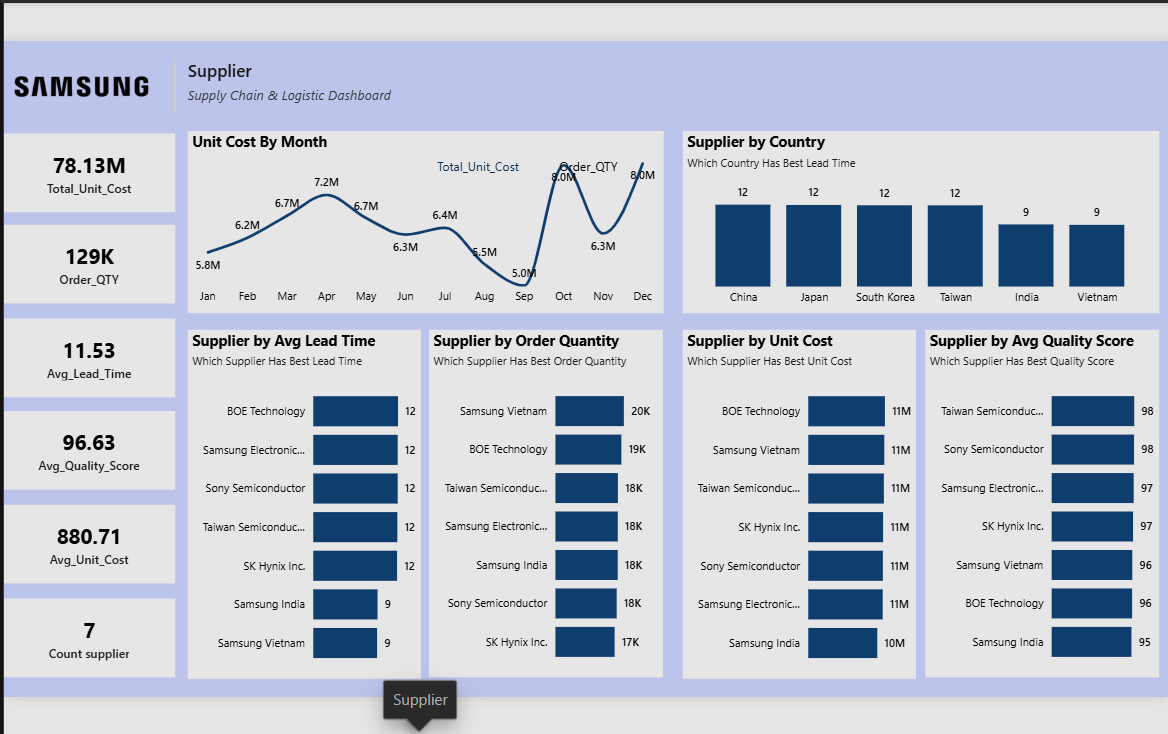

The page's visual inventory and layout, read from the dashboard file:
{"tool":"powerbi","page":{"name":"Supplier","canvas":[1280,720],"ordinal":2},"visuals":[{"type":"shape","title":"Supplier","box":[201.7,18.8,278.6,60.4],"z":0},{"type":"lineChart","title":"Unit Cost By Month","fields":{"Y":["fact_procurement.Total_Unit_Cost"],"Category":["dim_date.Month_Short"]},"box":[201.7,98.8,522,200],"z":0,"group":"g1"},{"type":"shape","box":[172.9,18.8,28.8,60.4],"z":1000},{"type":"advancedSlicerVisual","fields":{"Values":["Cost_Qty_Supplier.Cost_Qty_Supplier"]},"box":[457.3,110.3,249.9,53.9],"z":1000,"group":"g1"},{"type":"image","box":[0,18.8,163.3,60.4],"z":2000},{"type":"cardVisual","fields":{"Data":["Measures Table.Order_QTY"]},"box":[0,201.7,188,86.4],"z":3000},{"type":"cardVisual","fields":{"Data":["Measures Table.Avg_Lead_Time"]},"box":[0,304.6,188,86.4],"z":4000},{"type":"cardVisual","fields":{"Data":["fact_procurement.Avg_Quality_Score"]},"box":[0,406.2,188,86.4],"z":5000},{"type":"cardVisual","fields":{"Data":["fact_procurement.Avg_Unit_Cost"]},"box":[0,509.1,188,86.4],"z":6000},{"type":"cardVisual","fields":{"Data":["CountNonNull(dim_supplier.supplier_id)"]},"box":[0,612,188,86.4],"z":7000},{"type":"cardVisual","fields":{"Data":["fact_procurement.Total_Unit_Cost"]},"box":[0,101.5,188,86.4],"z":8000},{"type":"clusteredBarChart","title":"Supplier by Avg Lead Time","fields":{"Category":["dim_supplier.supplier_name"],"Y":["Measures Table.Avg_Lead_Time"]},"box":[201.7,317,256,382.8],"z":9000},{"type":"clusteredBarChart","title":"Supplier by Order Quantity","fields":{"Category":["dim_supplier.supplier_name"],"Y":["Measures Table.Order_QTY"]},"box":[466.6,317,256.6,381.5],"z":10000},{"type":"clusteredBarChart","title":"Supplier by Unit Cost","fields":{"Category":["dim_supplier.supplier_name"],"Y":["fact_procurement.Total_Unit_Cost"]},"box":[745.1,317,256,382.8],"z":11000},{"type":"clusteredColumnChart","title":"Supplier by Country","fields":{"Category":["dim_supplier.country"],"Y":["Measures Table.Avg_Lead_Time"]},"box":[745.1,98.8,522.8,200.3],"z":12000},{"type":"group","id":"g1","title":"Group 1","box":[201.7,98.8,521.4,200.3],"z":13000},{"type":"clusteredBarChart","title":"Supplier by Avg Quality Score","fields":{"Category":["dim_supplier.supplier_name"],"Y":["fact_procurement.Avg_Quality_Score"]},"box":[1011.3,317,256.6,381.5],"z":14000}]}

Visuals, with their boxes on the page's 1280x720 design canvas (x1, y1, x2, y2). These are canvas units, not pixel positions in the 1168x734 screenshot, which may show the page scaled, cropped or inside an application window:
"Supplier" shape: [202, 19, 480, 79]
"Unit Cost By Month" lineChart: [202, 99, 724, 299]
shape: [173, 19, 202, 79]
advancedSlicerVisual - Cost_Qty_Supplier.Cost_Qty_Supplier: [457, 110, 707, 164]
image: [0, 19, 163, 79]
cardVisual - Measures Table.Order_QTY: [0, 202, 188, 288]
cardVisual - Measures Table.Avg_Lead_Time: [0, 305, 188, 391]
cardVisual - fact_procurement.Avg_Quality_Score: [0, 406, 188, 493]
cardVisual - fact_procurement.Avg_Unit_Cost: [0, 509, 188, 596]
cardVisual - CountNonNull(dim_supplier.supplier_id): [0, 612, 188, 698]
cardVisual - fact_procurement.Total_Unit_Cost: [0, 102, 188, 188]
"Supplier by Avg Lead Time" clusteredBarChart: [202, 317, 458, 700]
"Supplier by Order Quantity" clusteredBarChart: [467, 317, 723, 698]
"Supplier by Unit Cost" clusteredBarChart: [745, 317, 1001, 700]
"Supplier by Country" clusteredColumnChart: [745, 99, 1268, 299]
"Group 1" group: [202, 99, 723, 299]
"Supplier by Avg Quality Score" clusteredBarChart: [1011, 317, 1268, 698]
